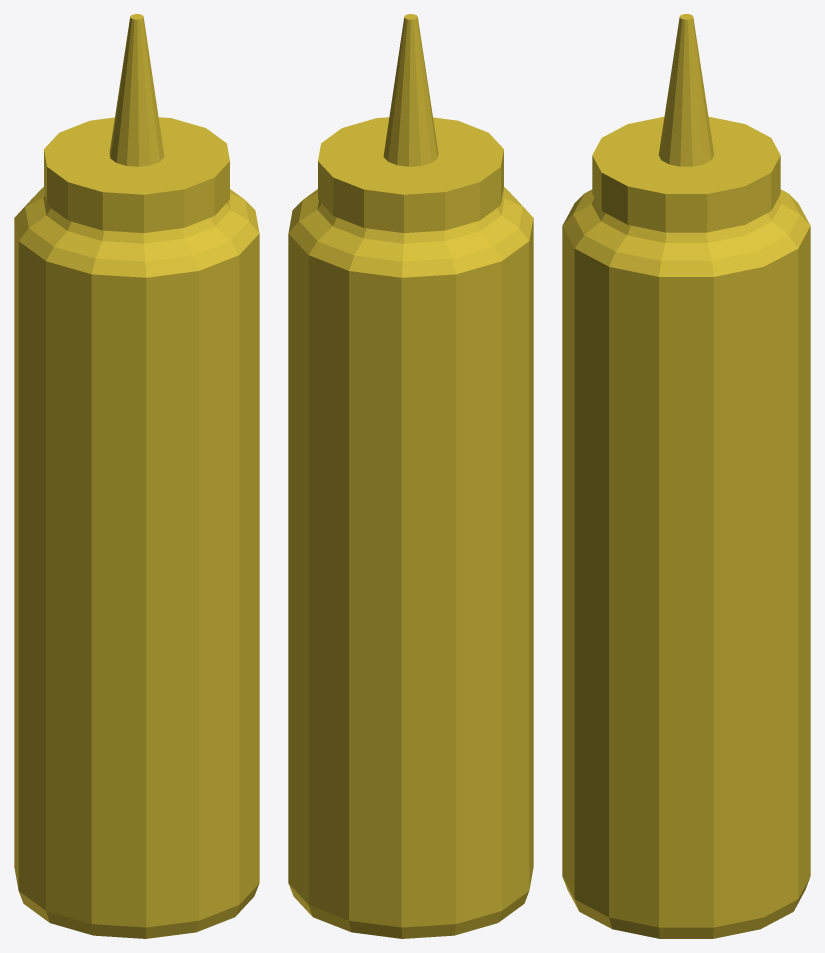
File: Mustard_01.fbx
The picture shows the model from 3 angles, left to right: view 1: azimuth 30°, elevation 25°; view 2: azimuth 150°, elevation 25°; view 3: azimuth 270°, elevation 25°; orthographic projection.
Parts seen in each view (by area): view 1: Mustard_01; view 2: Mustard_01; view 3: Mustard_01.
Part boxes in pixels (box(x1,y1,x2,y2)): Mustard_01: box(14, 14, 259, 938); Mustard_01: box(288, 14, 533, 938); Mustard_01: box(562, 14, 810, 938).
Bounding box in the file's own units: 9.39 × 37.37 × 9.63.
